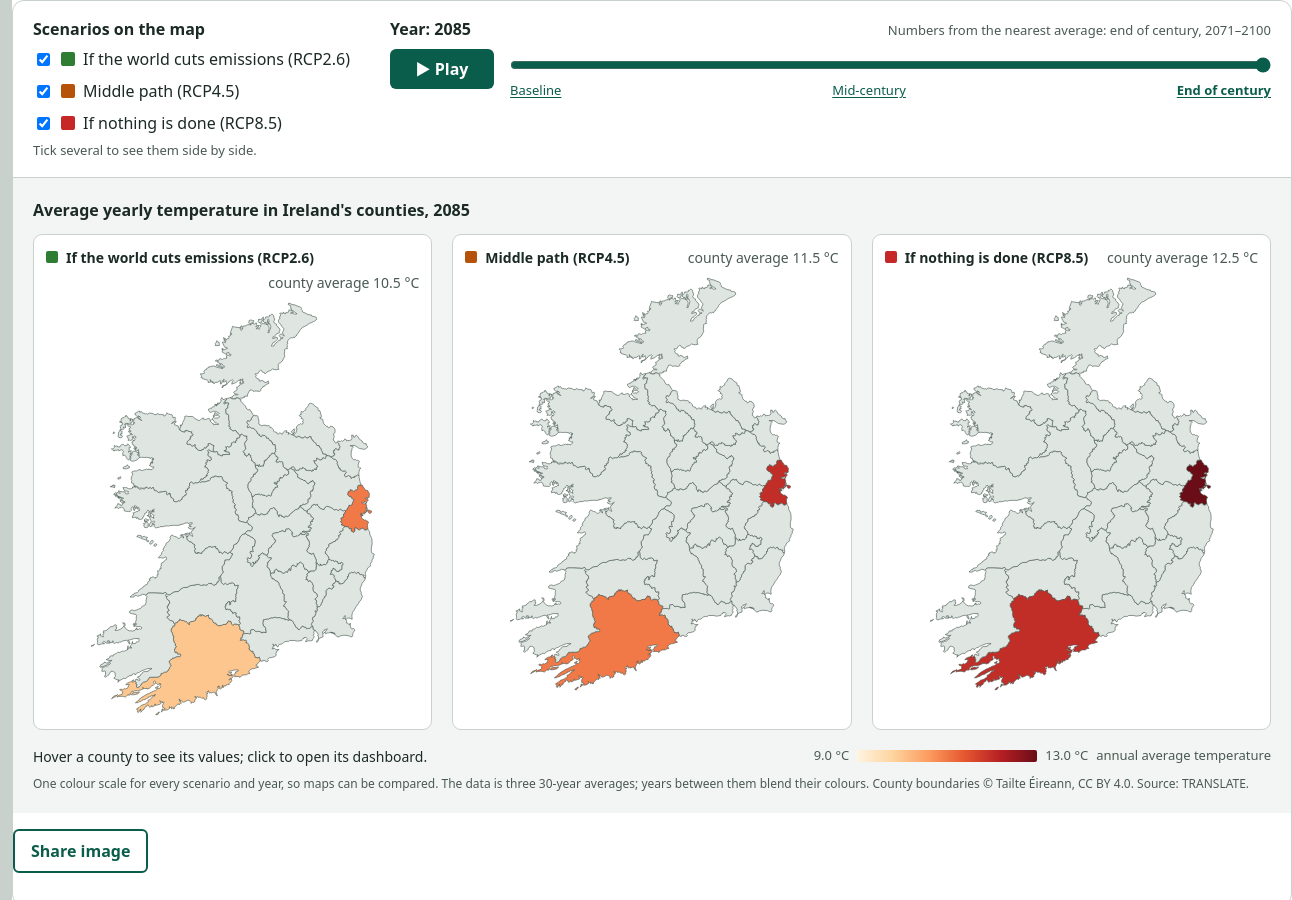
Scenario: HomeMaps › moves to a period when its name under the slider is pressed
The width and height of the screenshot is (1292, 900).
Click the button "Baseline" at (536, 91), box [510,81,561,100]
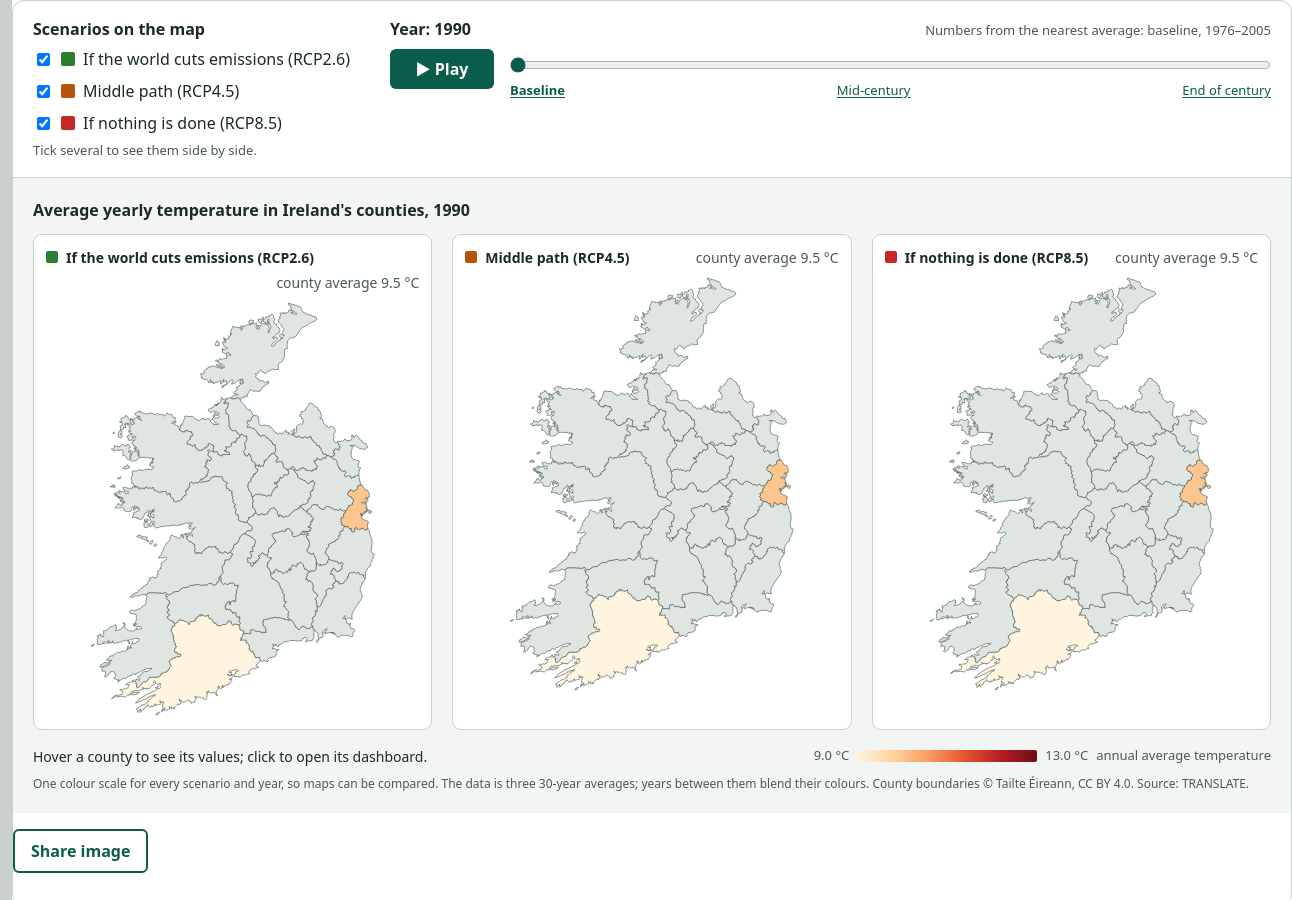
Check: the link "Cork, RCP8.5: 9.0 °C, open county page" is shown, box [950,589,1099,689]
Check: the slider holds "1990", box [510,57,1271,73]
